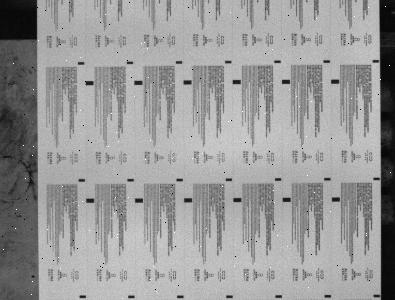backgroundclutter: (31, 275, 35, 278)
qblock: (134, 80, 143, 85), (183, 80, 192, 85), (331, 79, 340, 84), (282, 79, 290, 84), (86, 198, 94, 203), (135, 198, 143, 203), (233, 197, 241, 202), (283, 197, 291, 202), (85, 81, 94, 85), (233, 80, 241, 84), (184, 198, 192, 202), (332, 197, 340, 201)
smallqblock: (225, 60, 232, 64), (127, 178, 134, 182), (77, 62, 85, 65), (175, 61, 183, 64), (176, 178, 184, 181), (126, 61, 133, 64), (274, 60, 281, 63), (323, 60, 330, 63), (78, 179, 85, 182), (372, 60, 379, 63), (275, 178, 282, 181), (226, 178, 233, 181), (324, 177, 331, 180), (373, 177, 380, 180), (128, 295, 135, 298), (79, 295, 86, 298), (177, 295, 184, 298), (226, 295, 233, 298), (275, 295, 282, 298), (324, 294, 331, 297), (373, 294, 380, 297)
